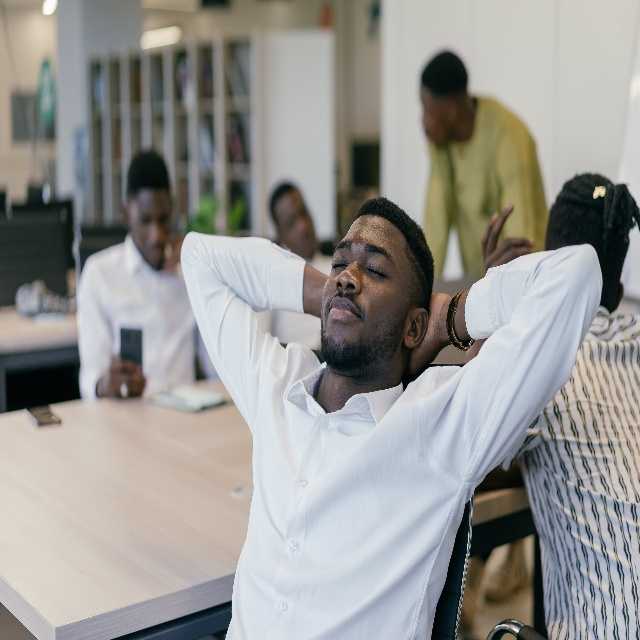Sin_guantes: (478, 205, 533, 266), (410, 295, 453, 367), (100, 356, 145, 396)
